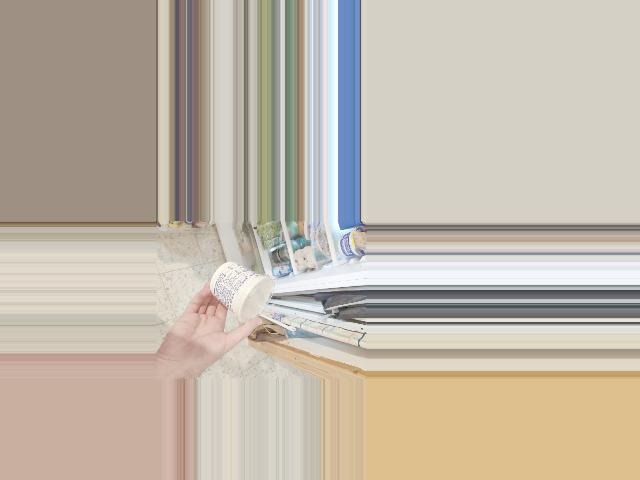cotage: (208, 266, 275, 320)
